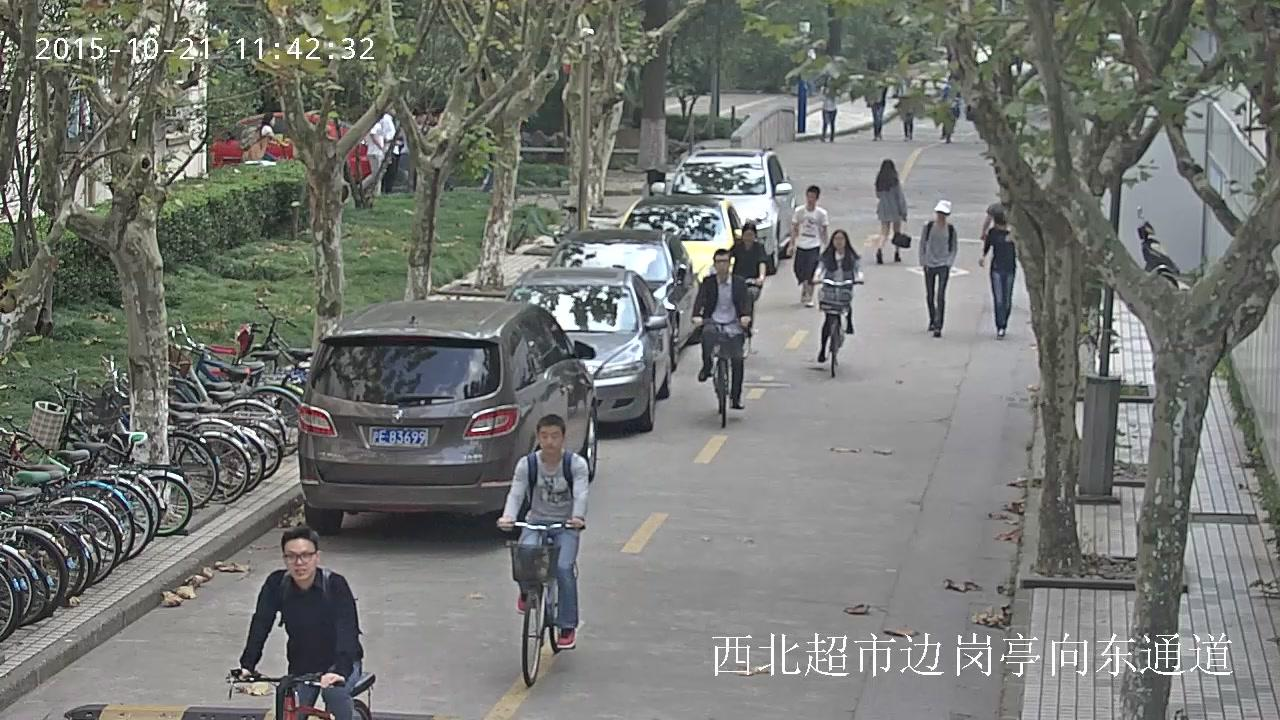face: (282, 540, 317, 580), (539, 424, 562, 454), (714, 253, 728, 272), (742, 229, 755, 246), (833, 231, 845, 247), (805, 190, 817, 203), (388, 107, 398, 115), (937, 212, 945, 220), (269, 117, 275, 126)
